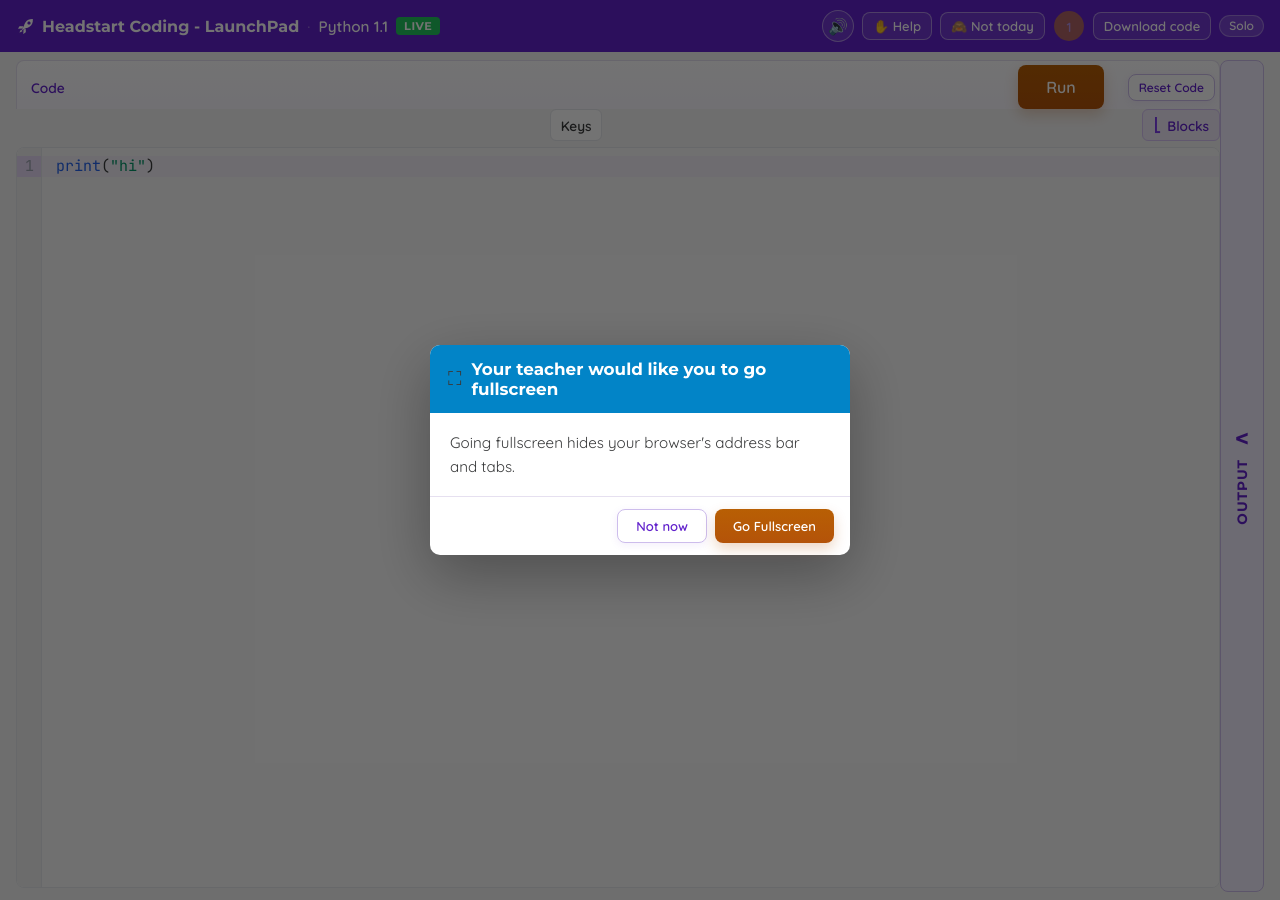
Test case: StudentView › fullscreen request › dismisses the prompt without requesting fullscreen when Not now is clicked
Click the button "Not now" at coordinates (662, 526), box x1=617 y1=509 x2=707 y2=543
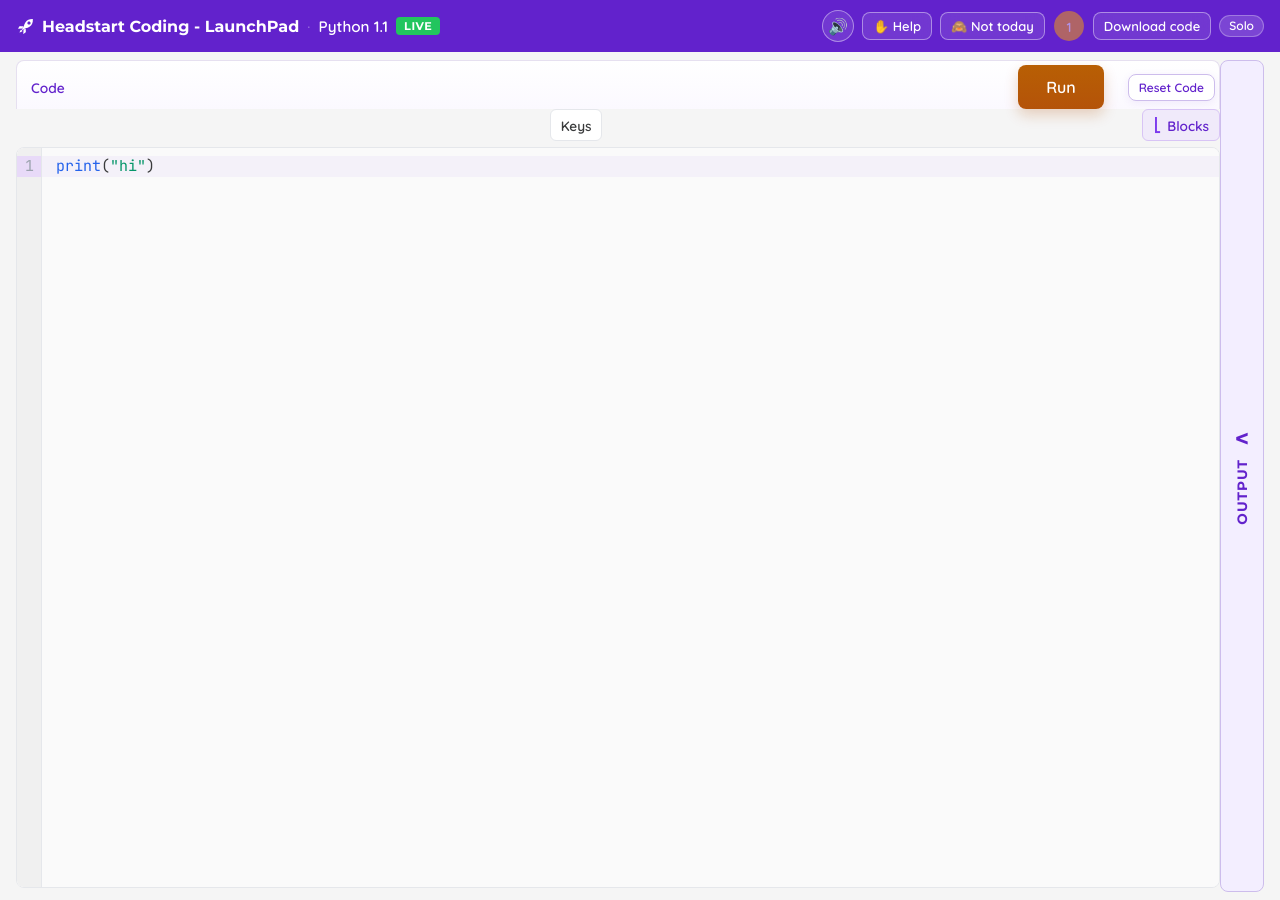
Check: the text "Your teacher would like you to go fullscreen" is gone
